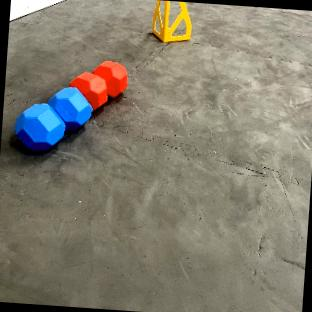V5_BLUE: (13, 87, 91, 150)
V5_RED: (66, 59, 127, 108)
pieces: (10, 56, 128, 153)
